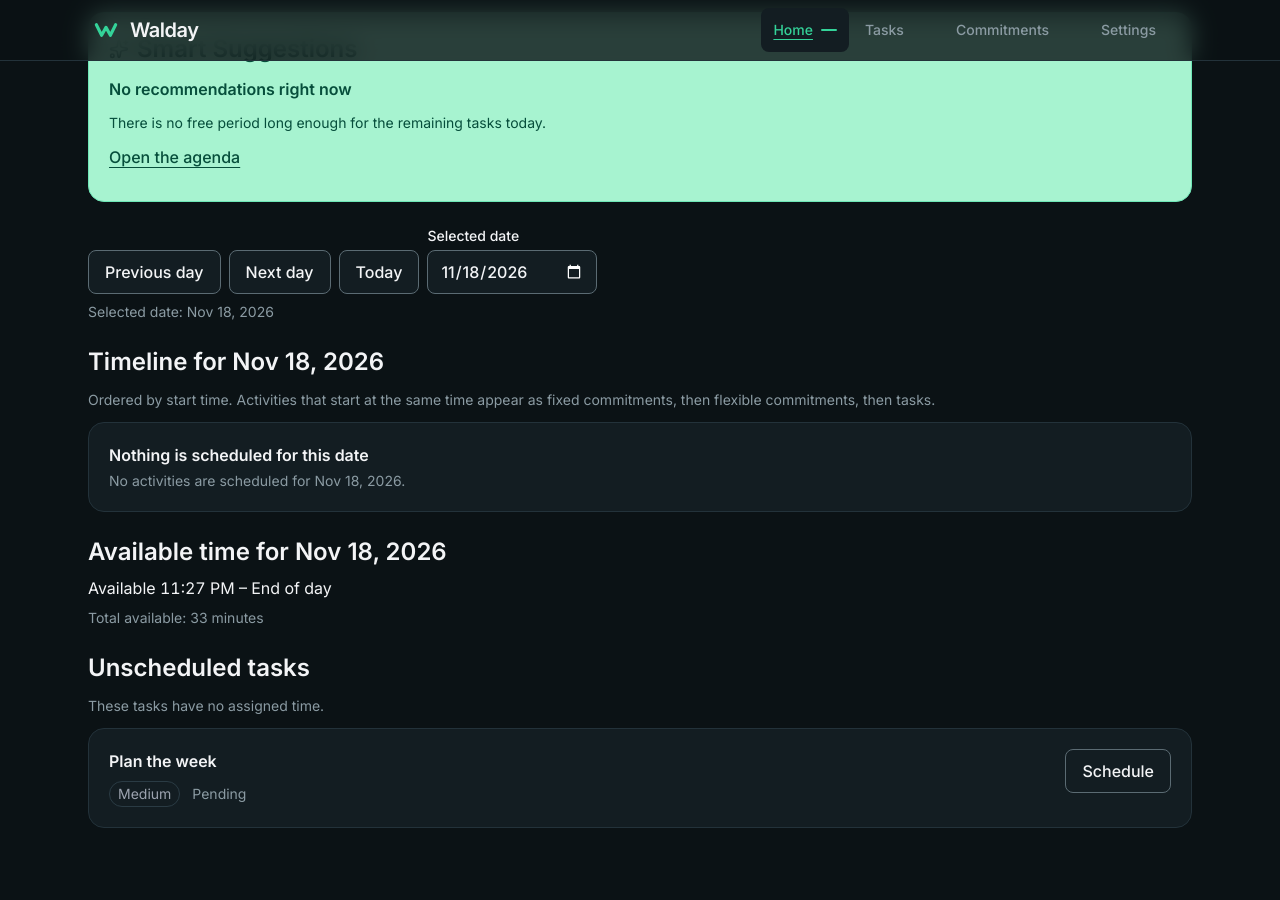
Scenario: explicit task scheduling › rejects a missing start time and an invalid time
The width and height of the screenshot is (1280, 900).
(page scrolled)
Click the button "Schedule" at (1118, 771), box [1066,749,1171,793]
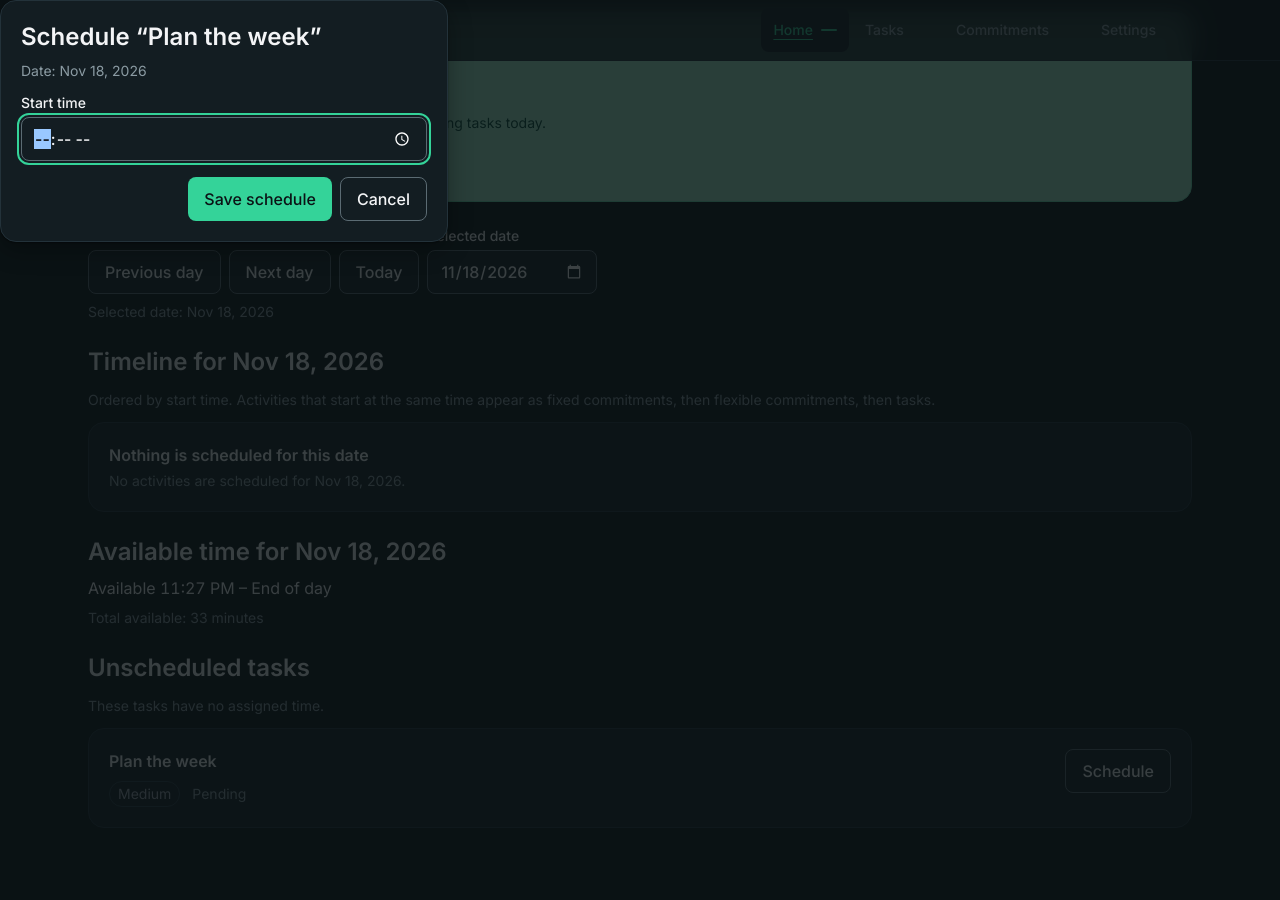
Click the button "Save schedule" at (260, 199), box [188,177,332,221]
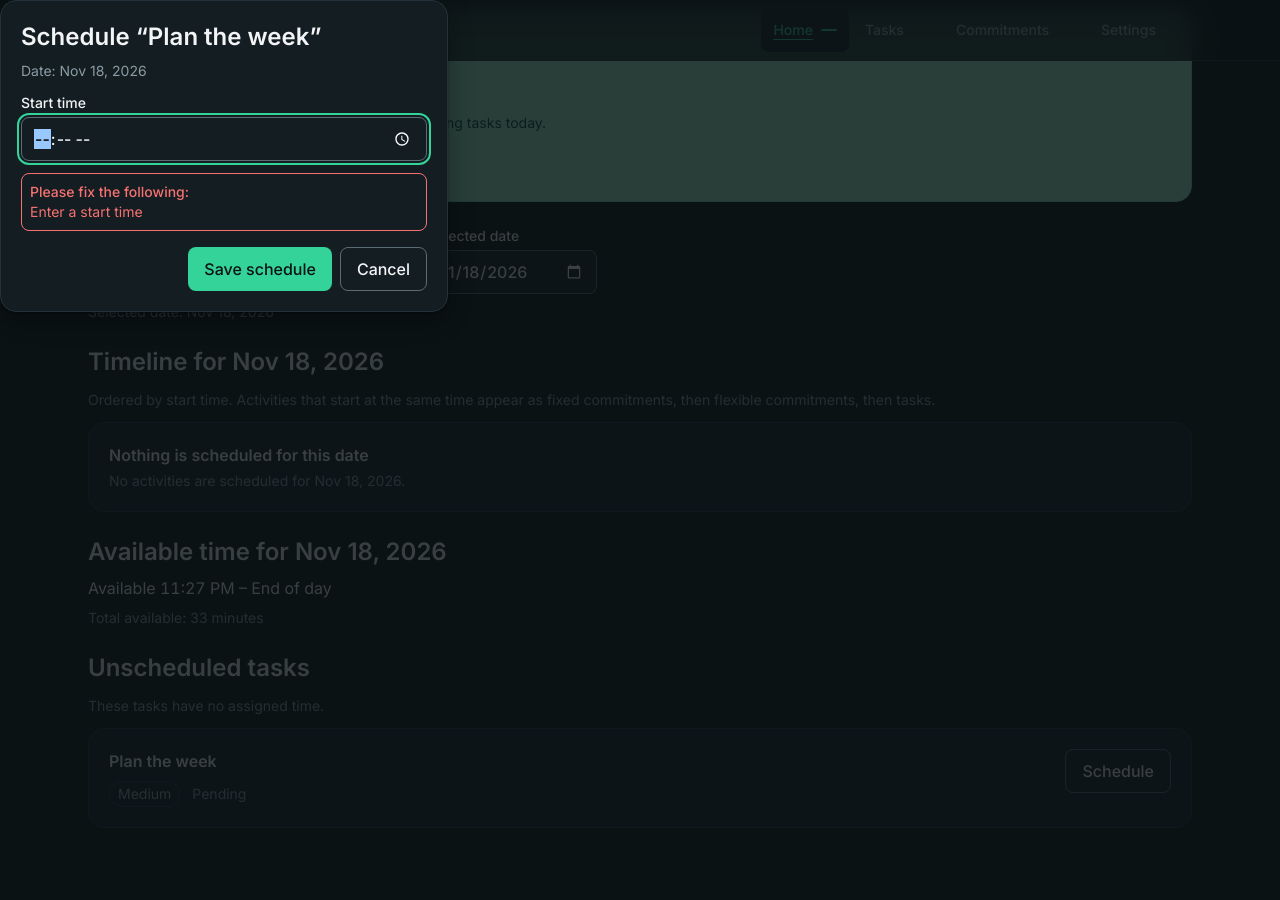
Now the list item "Enter a start time" is shown, box [30,203,143,220]
Type "10:00" into the time field labelled "Start time" at (224, 139), box [21,117,427,161]
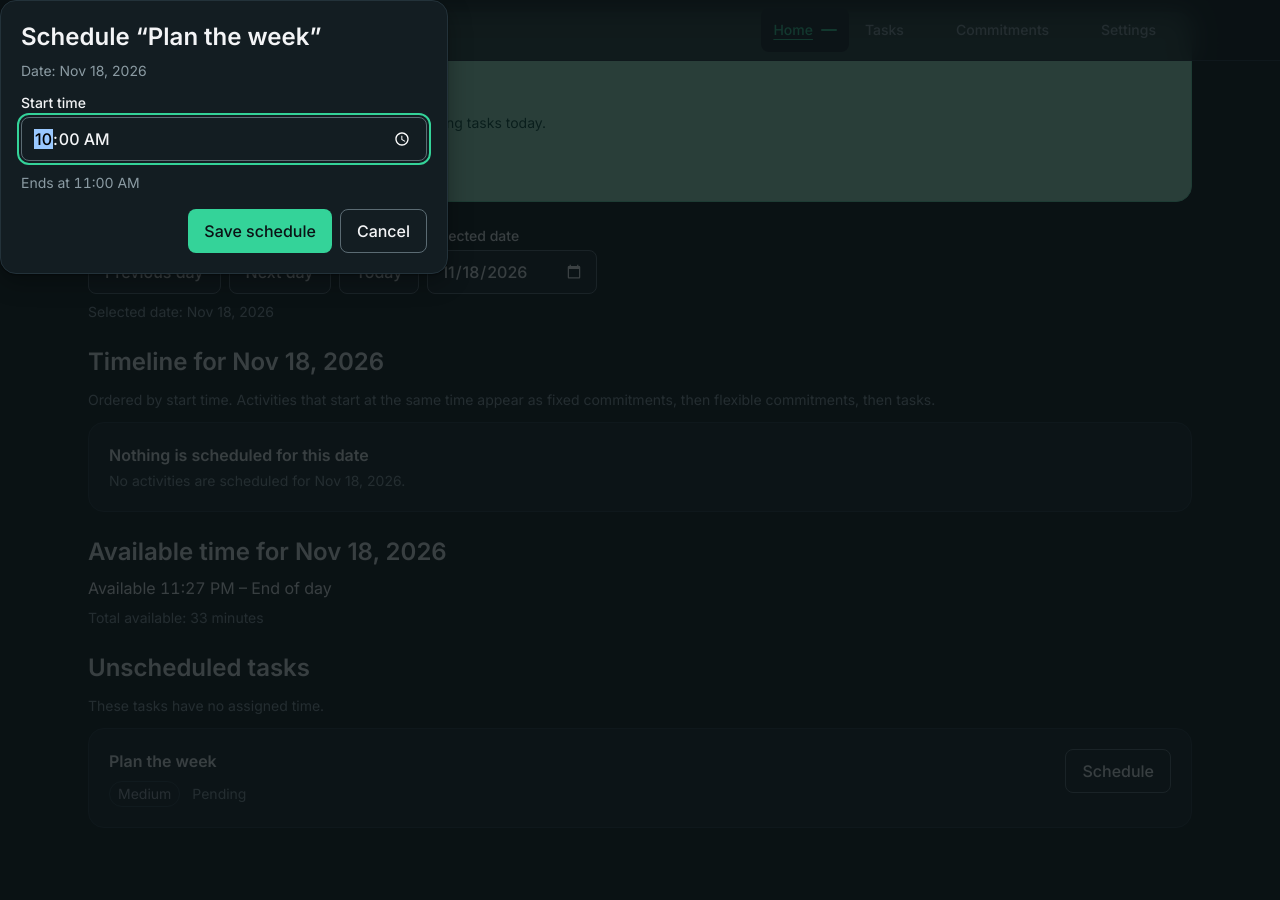
Now the list item "Enter a start time" is gone
